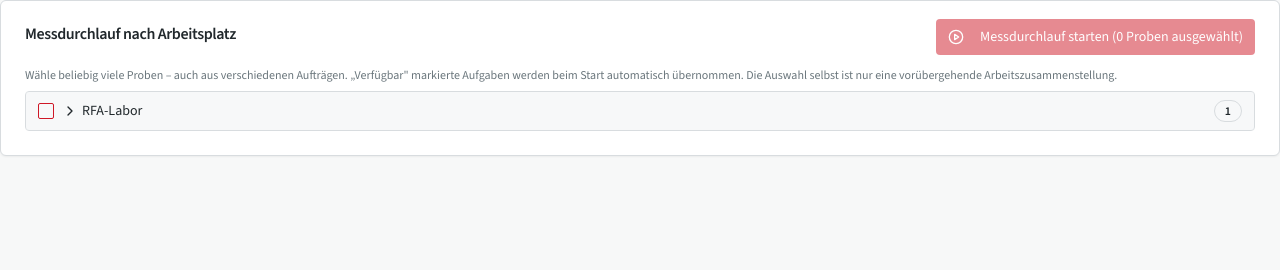
MeasurementRunPicker – Tabelle, Beschreibung, direkte Navigation & Suche › rendert alle Spalten inkl. Probenbeschreibung (mit title) ohne Aktionsbutton in einem <label>
Click the button "RFA-Labor" at (112, 110), box [62,101,1206,121]
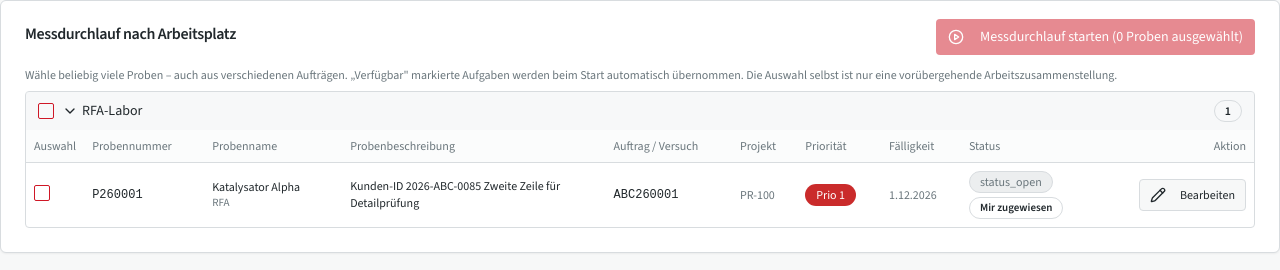
Expected: the column heading "Auswahl" is shown, [26,130,84,162]
Expected: the column heading "Probennummer" is shown, [84,130,204,162]
Expected: the column heading "Probenname" is shown, [204,130,342,162]
